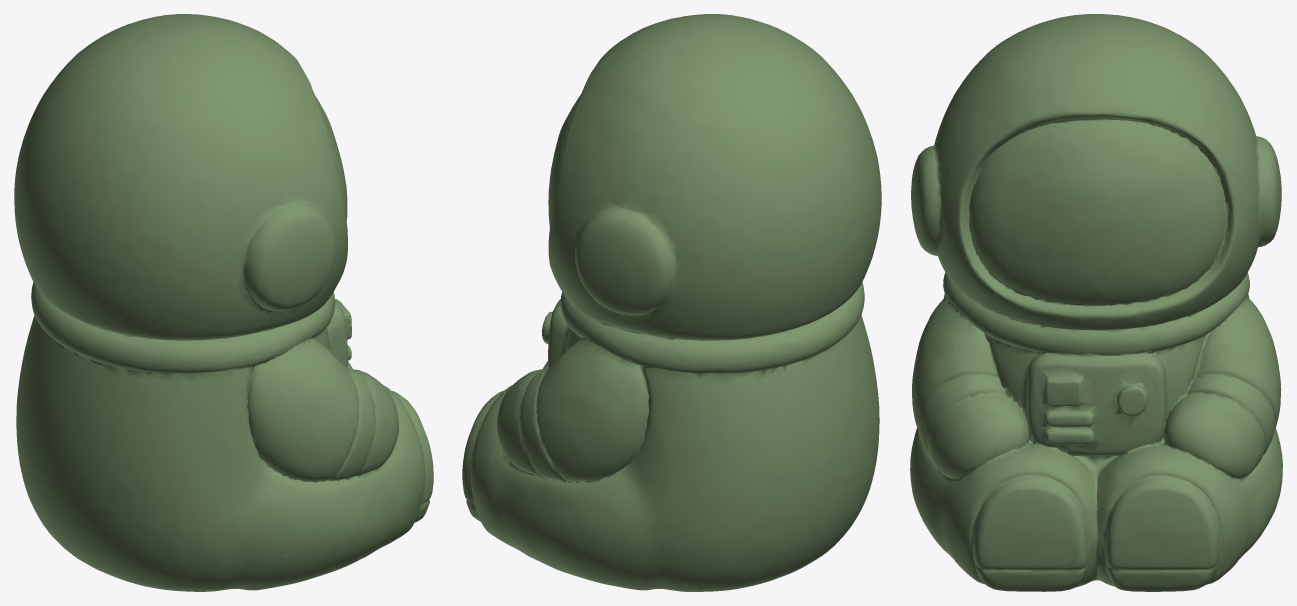
The model's file is orbit-astronaut.glb.
3 renders of one model, left to right at view 1: azimuth 30°, elevation 25°; view 2: azimuth 150°, elevation 25°; view 3: azimuth 270°, elevation 25°, orthographic. The views are drawn at different scales.
Parts seen in each view (by area): view 1: tripo_printable_source; view 2: tripo_printable_source; view 3: tripo_printable_source.
Part boxes in pixels (box(x1,y1,x2,y2)): tripo_printable_source: box(14, 14, 433, 591); tripo_printable_source: box(462, 14, 881, 591); tripo_printable_source: box(910, 14, 1282, 591).
Bounding box in the file's own units: 70 × 100 × 69.05.
